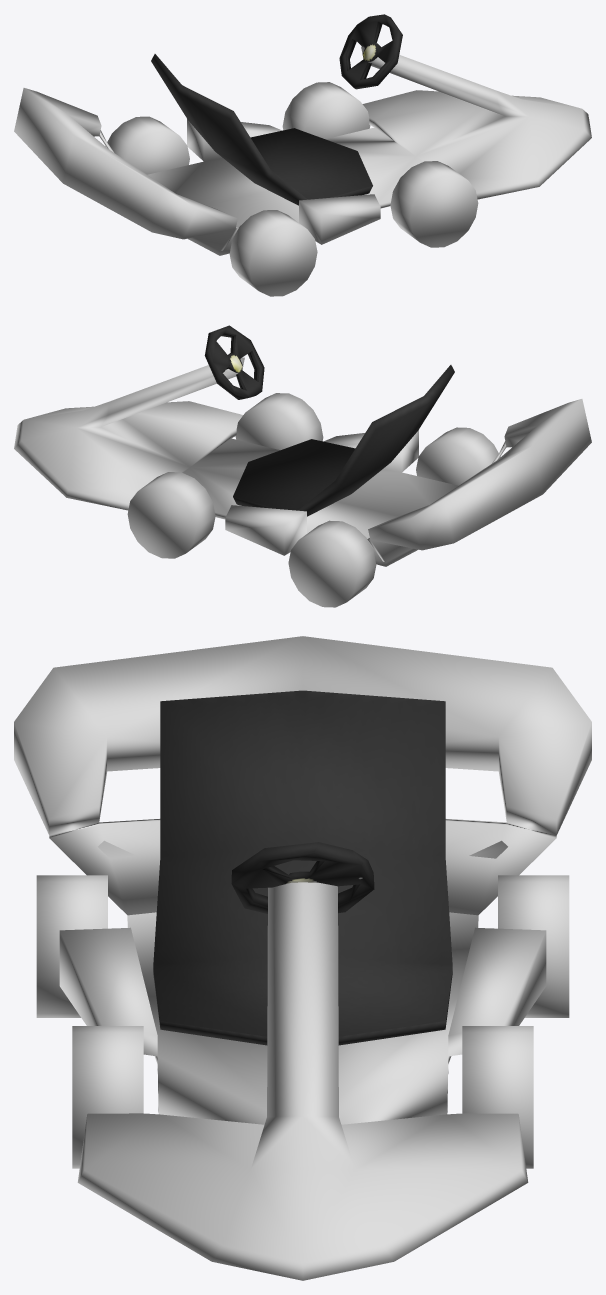
The model's file is Kart Model.fbx.
The picture shows the model from 3 angles, top to bottom: view 1: azimuth 30°, elevation 25°; view 2: azimuth 150°, elevation 25°; view 3: azimuth 270°, elevation 25°; orthographic projection. The views are drawn at different scales.
Parts seen in each view (by area): view 1: Chasis, Seat, Wheel B, Wheel FR, Wheel FL, Steering Wheel; view 2: Chasis, Seat, Wheel B, Wheel FL, Wheel FR, Steering Wheel; view 3: Chasis, Seat, Wheel B, Wheel FL, Wheel FR, Steering Wheel.
Part boxes in pixels (left/top/right/bottom): Chasis: left=14, top=46, right=591, bottom=255; Seat: left=151, top=54, right=372, bottom=205; Wheel B: left=105, top=116, right=317, bottom=296; Wheel FR: left=390, top=161, right=478, bottom=247; Wheel FL: left=282, top=82, right=370, bottom=139; Steering Wheel: left=339, top=14, right=402, bottom=89; Chasis: left=14, top=357, right=591, bottom=566; Seat: left=233, top=365, right=454, bottom=516; Wheel B: left=288, top=427, right=498, bottom=607; Wheel FL: left=127, top=472, right=215, bottom=558; Wheel FR: left=235, top=393, right=323, bottom=450; Steering Wheel: left=204, top=325, right=264, bottom=399; Chasis: left=14, top=636, right=591, bottom=1280; Seat: left=153, top=690, right=452, bottom=1045; Wheel B: left=36, top=875, right=569, bottom=1017; Wheel FL: left=462, top=1026, right=533, bottom=1168; Wheel FR: left=72, top=1026, right=143, bottom=1168; Steering Wheel: left=231, top=842, right=374, bottom=913.
Size of the model in its own units: 385 by 127 by 203.
